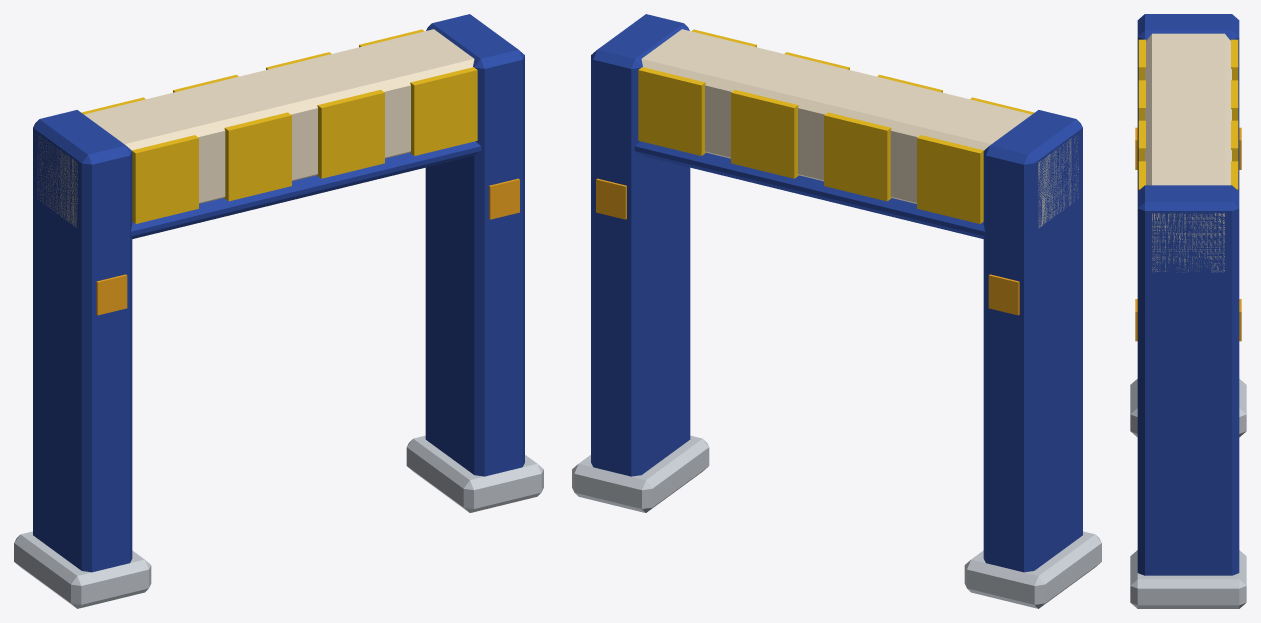
The model's file is slide_gate.obj.
3 views of the same model, side by side, from view 1: azimuth 30°, elevation 25°; view 2: azimuth 150°, elevation 25°; view 3: azimuth 270°, elevation 25° (orthographic). The views are drawn at different scales.
Visible parts, largest first — view 1: post_l, post_r, crossbar, crossbar_lip, base_r, base_l, chevron_3_f, chevron_1_f, chevron_2_f, chevron_0_f, post_light_l, post_light_r; view 2: post_l, post_r, crossbar, crossbar_lip, base_r, base_l, chevron_3_b, chevron_1_b, chevron_2_b, chevron_0_b, post_light_l, post_light_r; view 3: post_r, crossbar, base_r, post_l, base_l, chevron_0_f, chevron_0_b, chevron_2_f, chevron_2_b, chevron_1_f, chevron_1_b, post_light_l (+4 smaller).
Boxes of the visible parts, x1,y1,x2,y2 form: post_l: [33, 110, 132, 572]; post_r: [425, 14, 524, 476]; crossbar: [37, 29, 474, 227]; crossbar_lip: [38, 141, 481, 243]; base_r: [406, 435, 543, 512]; base_l: [14, 531, 151, 608]; chevron_3_f: [410, 67, 477, 155]; chevron_1_f: [224, 112, 291, 201]; chevron_2_f: [317, 89, 384, 178]; chevron_0_f: [132, 135, 198, 223]; post_light_l: [96, 274, 127, 315]; post_light_r: [489, 178, 519, 219]; post_l: [983, 110, 1082, 572]; post_r: [591, 14, 690, 476]; crossbar: [641, 29, 1078, 228]; crossbar_lip: [634, 141, 1081, 238]; base_r: [572, 435, 709, 512]; base_l: [964, 531, 1101, 608]; chevron_3_b: [638, 67, 705, 155]; chevron_1_b: [824, 112, 891, 201]; chevron_2_b: [731, 89, 798, 178]; chevron_0_b: [917, 135, 983, 223]; post_light_l: [988, 274, 1019, 315]; post_light_r: [596, 178, 626, 219]; post_r: [1137, 185, 1239, 575]; crossbar: [1145, 33, 1231, 272]; base_r: [1130, 550, 1246, 608]; post_l: [1137, 14, 1239, 191]; base_l: [1130, 379, 1246, 437]; chevron_0_f: [1138, 39, 1145, 80]; chevron_0_b: [1231, 39, 1238, 80]; chevron_2_f: [1138, 120, 1145, 161]; chevron_2_b: [1231, 120, 1238, 161]; chevron_1_f: [1138, 80, 1145, 120]; chevron_1_b: [1231, 80, 1238, 120]; post_light_l: [1135, 127, 1241, 169].
Bounding box in the file's own units: 2.1 × 1.9 × 0.5.
